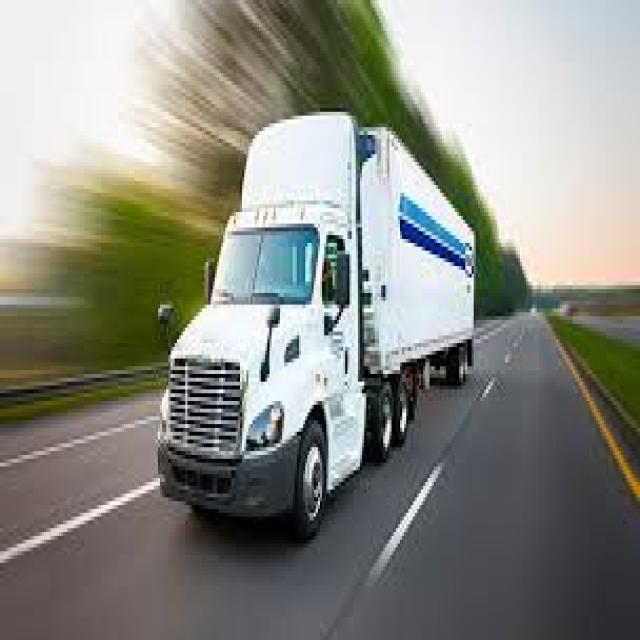covered: (153, 105, 476, 540)
